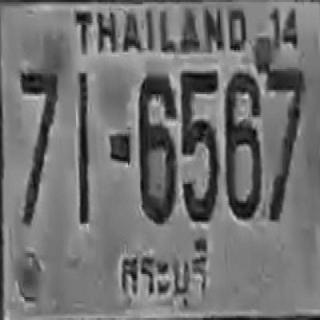N01: (77, 69, 90, 224)
N05: (180, 69, 219, 222)
N06: (138, 73, 177, 222), (224, 71, 261, 220)
N07: (19, 67, 59, 226), (265, 63, 305, 222)
P60: (112, 239, 214, 307)
